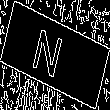N_S: (36, 24, 74, 86)
